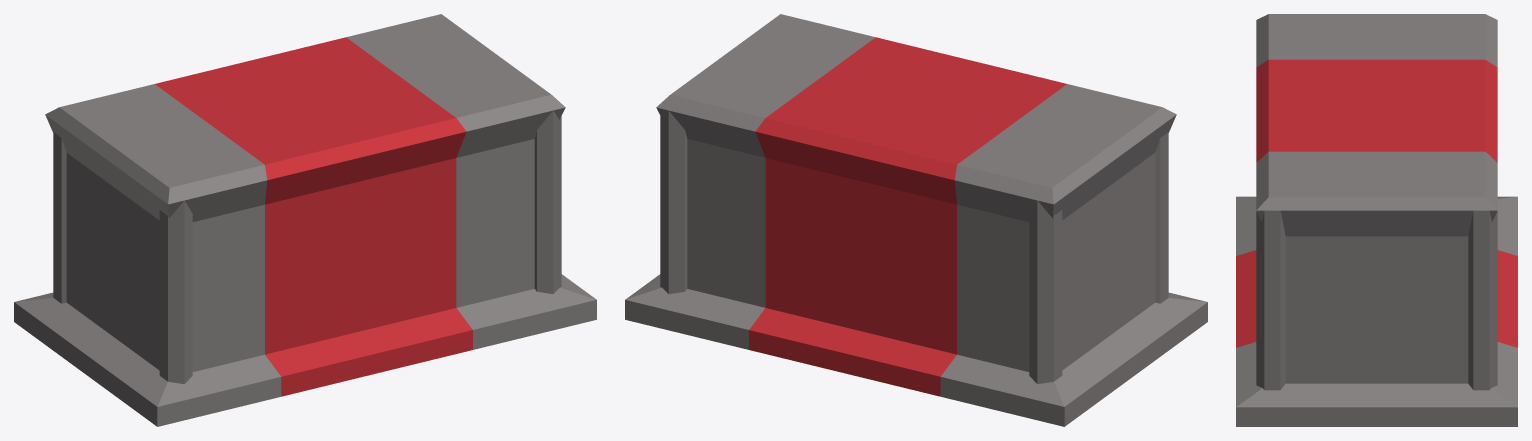
The model's file is altar.glb.
The picture shows the model from 3 angles, left to right: view 1: azimuth 30°, elevation 25°; view 2: azimuth 150°, elevation 25°; view 3: azimuth 270°, elevation 25°; orthographic projection.
Visible parts, largest first — view 1: altar; view 2: altar; view 3: altar.
Part boxes in pixels (box(x1,y1,x2,y2)): altar: box(14, 14, 596, 426); altar: box(625, 14, 1207, 426); altar: box(1236, 14, 1517, 426).
Bounding box in the file's own units: 2.3 × 1.1 × 1.3.
Materials: 1 (1 with a texture image).
